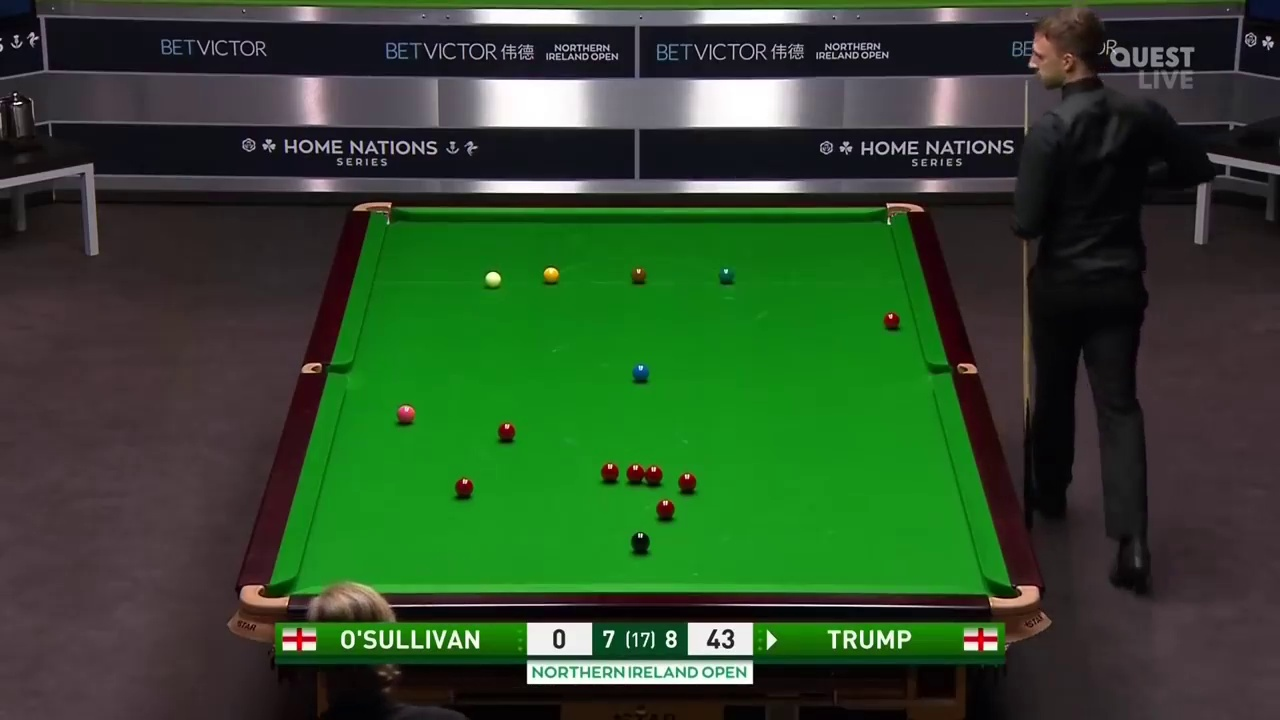black: (630, 530, 651, 550)
blue: (632, 364, 648, 383)
brown: (632, 266, 647, 283)
green: (718, 267, 734, 284)
pink: (397, 404, 415, 422)
red: (454, 477, 475, 498), (600, 464, 621, 483), (677, 472, 697, 491), (644, 466, 662, 487), (882, 310, 900, 330), (498, 422, 516, 440), (656, 499, 674, 517), (629, 464, 640, 482)
white: (484, 269, 502, 287)
yellow: (545, 264, 559, 281)
